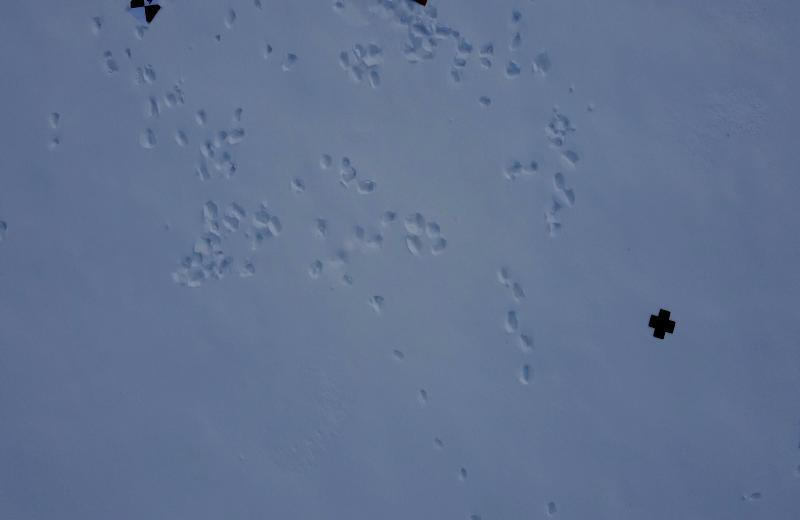Cross: (646, 305, 675, 342)
